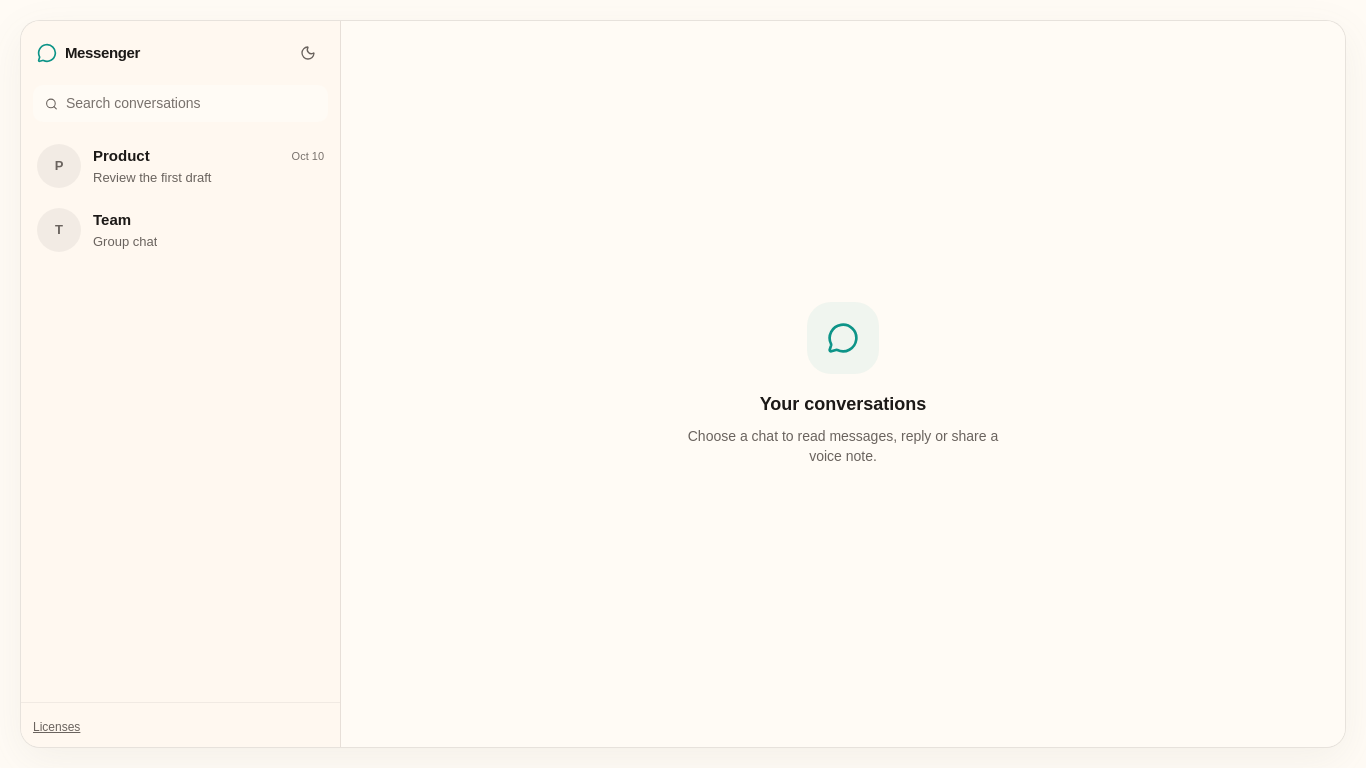
Scenario: retained donor chat UI and House composition › preserves composer on failed send
Click the button with aria-label "Open Product chat".
click(59, 166)  # box [25,134,336,198]
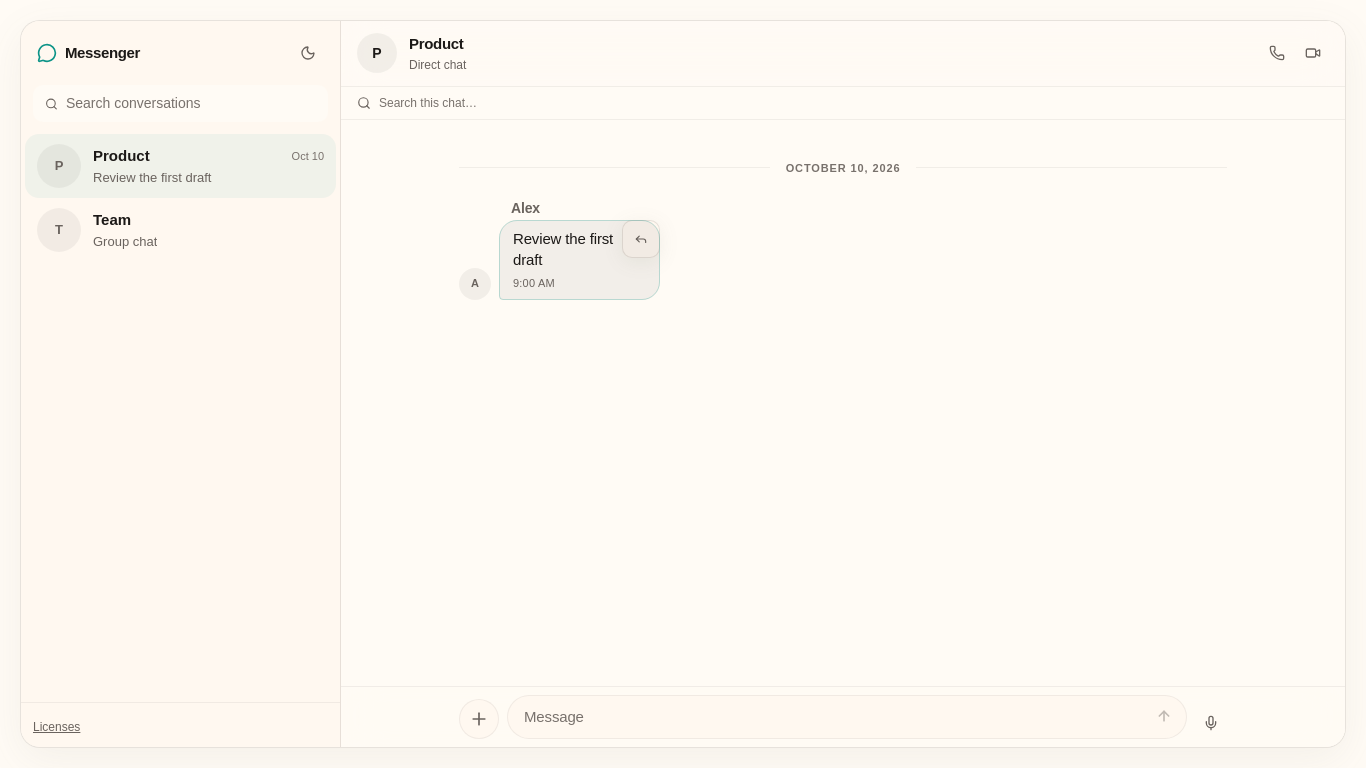
Type "Keep me" into the text box labelled "Message".
click(847, 717); type("Keep me")  # box [508,696,1186,738]
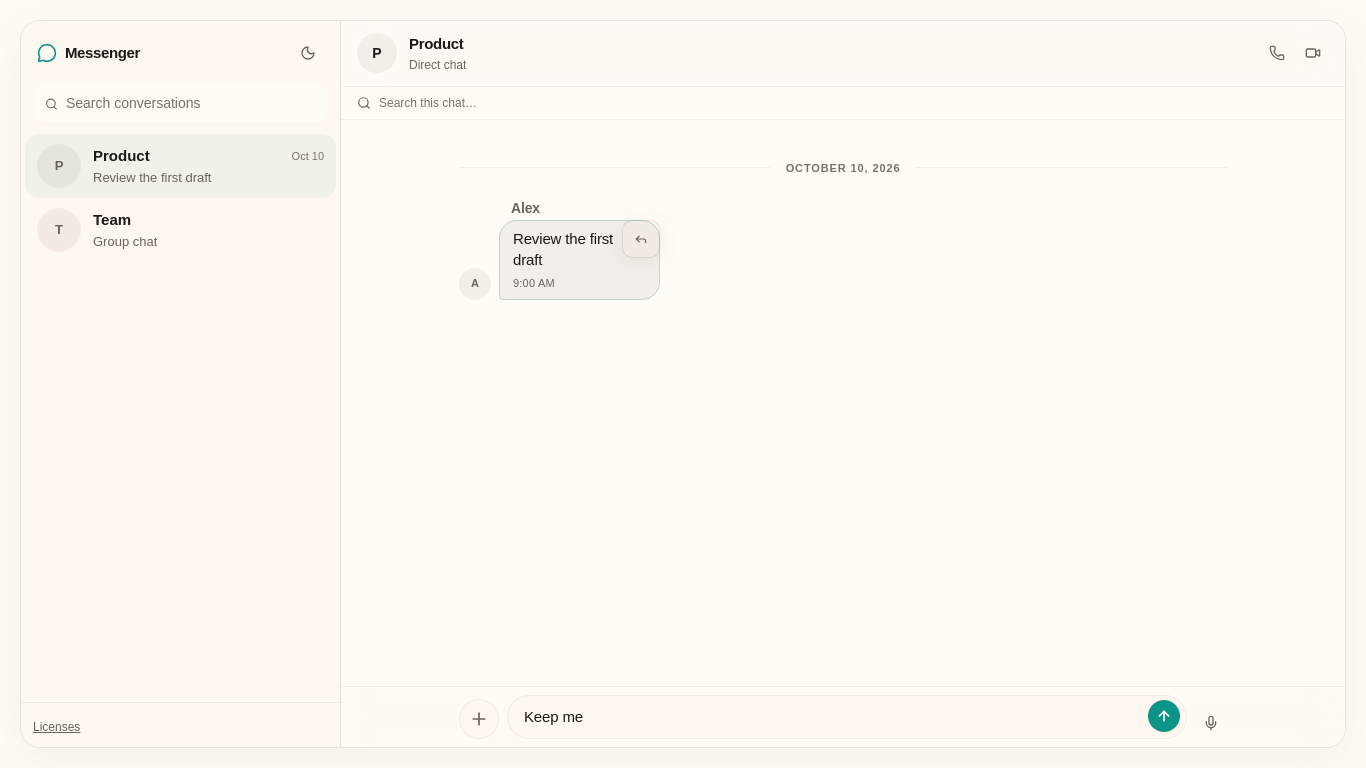
Click the button named "Send message".
click(1164, 716)  # box [1148,700,1180,732]
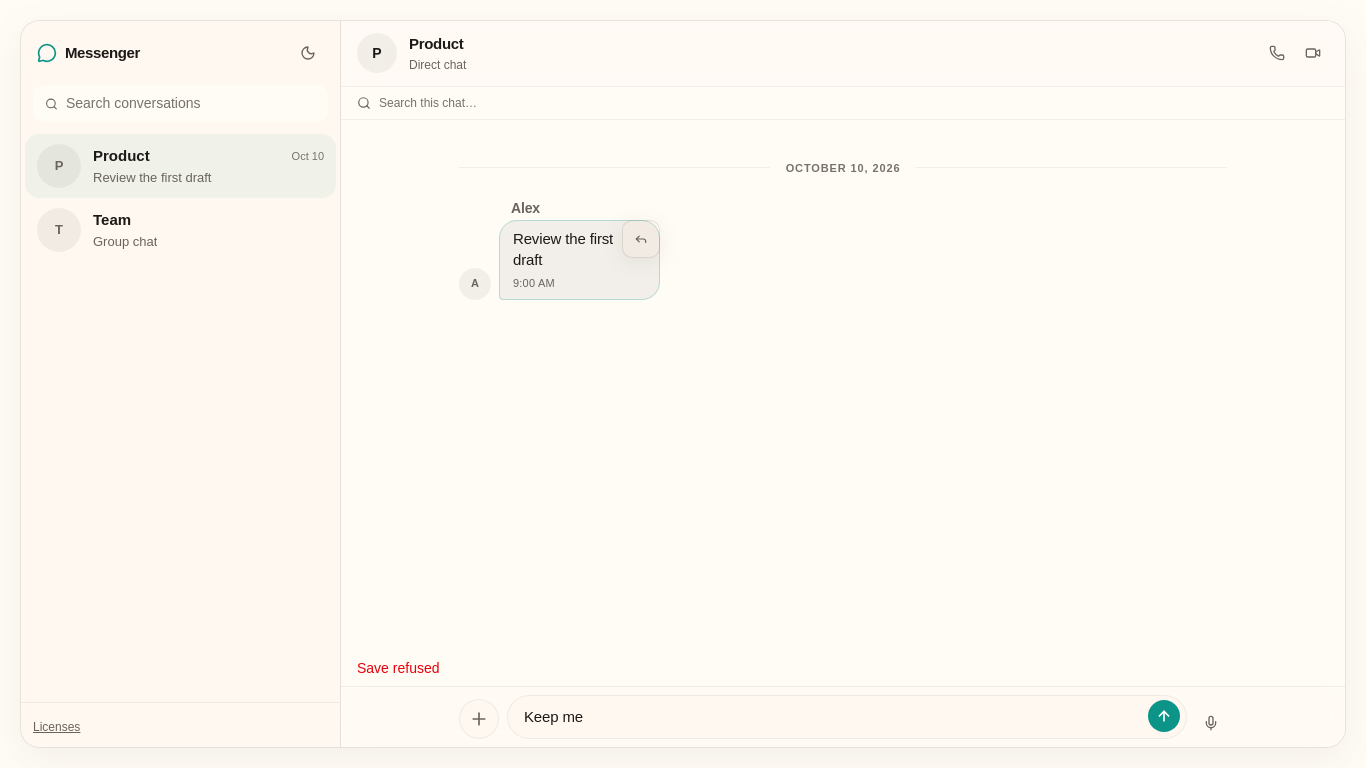
Now the message reads "Save refused", box [357,660,440,676]
